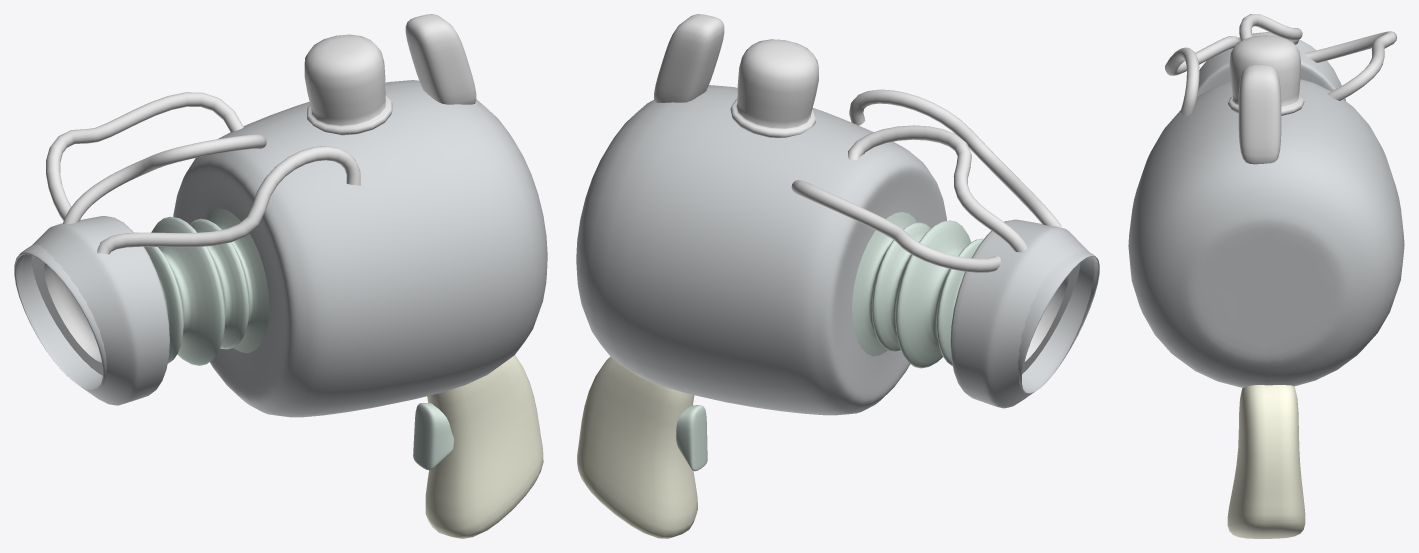
The model's file is Pistola.fbx.
3 renders of one model, left to right at view 1: azimuth 30°, elevation 25°; view 2: azimuth 150°, elevation 25°; view 3: azimuth 270°, elevation 25°, orthographic. The views are drawn at different scales.
Parts seen in each view (by area): view 1: Cylinder.002, Cylinder.004, Cube, Cylinder.003, BézierCurve, Cylinder.001, Cube.002, Cube.001, Cylinder.005; view 2: Cylinder.002, Cylinder.004, Cube, Cylinder.003, BézierCurve, Cylinder.001, Cube.002, Cube.001, Cylinder.005; view 3: Cylinder.002, Cube, BézierCurve, Cube.002, Cylinder.001, Cylinder.004.
Part boxes in pixels (x1,y1,x2,y2): Cylinder.002: (173,80,547,417); Cylinder.004: (14,216,169,405); Cube: (425,355,543,538); Cylinder.003: (144,208,269,365); BézierCurve: (46,92,360,254); Cylinder.001: (304,34,392,135); Cube.002: (405,14,476,104); Cube.001: (413,403,454,470); Cylinder.005: (44,263,101,362); Cylinder.002: (576,85,946,415); Cylinder.004: (950,219,1099,408); Cube: (577,357,697,538); Cylinder.003: (852,212,983,368); BézierCurve: (791,89,1061,272); Cylinder.001: (730,39,818,137); Cube.002: (654,14,724,102); Cube.001: (676,405,707,471); Cylinder.005: (1024,274,1069,361); Cylinder.002: (1128,79,1404,387); Cube: (1227,385,1305,538); BézierCurve: (1165,14,1397,116); Cube.002: (1238,64,1281,164); Cylinder.001: (1228,35,1304,115); Cylinder.004: (1197,32,1345,100).
Size of the model in its own units: 55.76 by 55.67 by 30.48.
